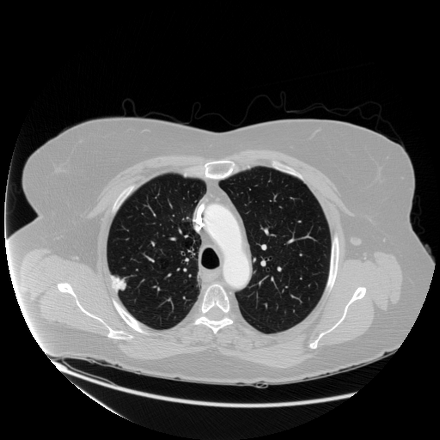nodule: (108, 273, 126, 291)
